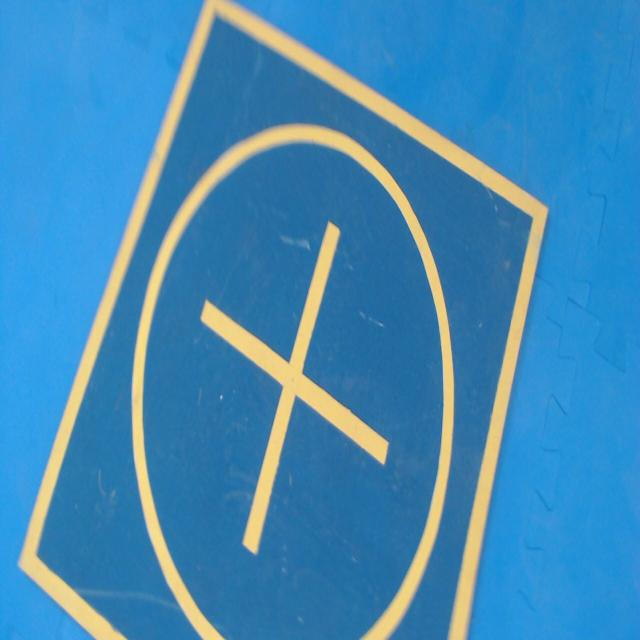base_pouso: (17, 2, 550, 639)
